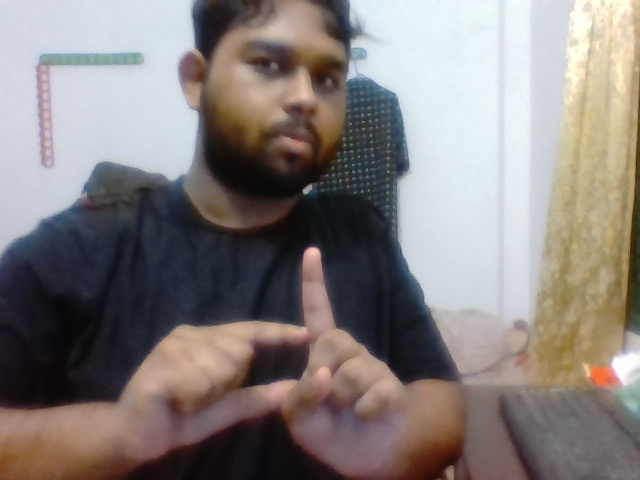D: (139, 227, 405, 457)
